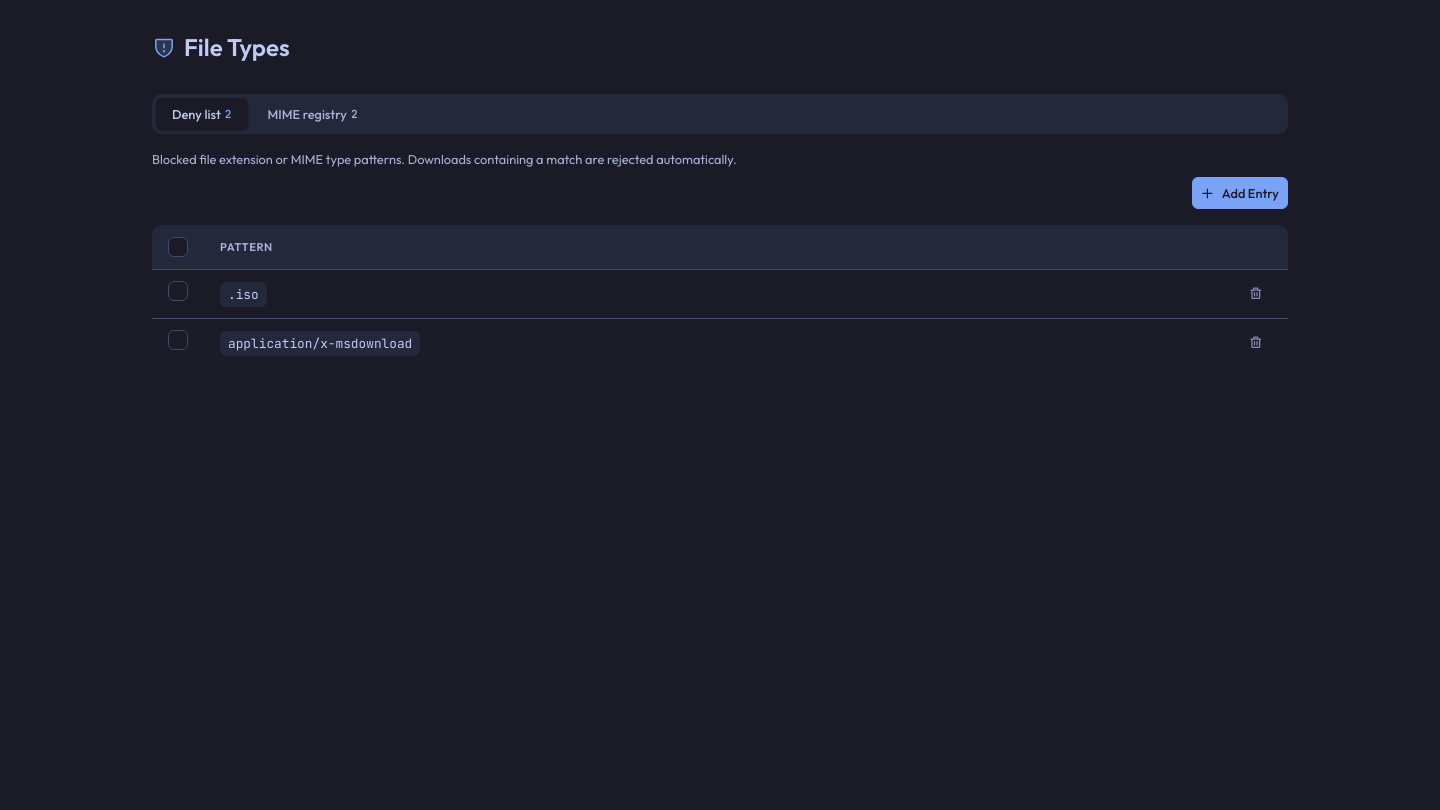
FileTypesPage deny list › surfaces a readable error on add failure (400)
Click the button "Add Entry" at [1240, 193], box 1192,177 -> 1288,209
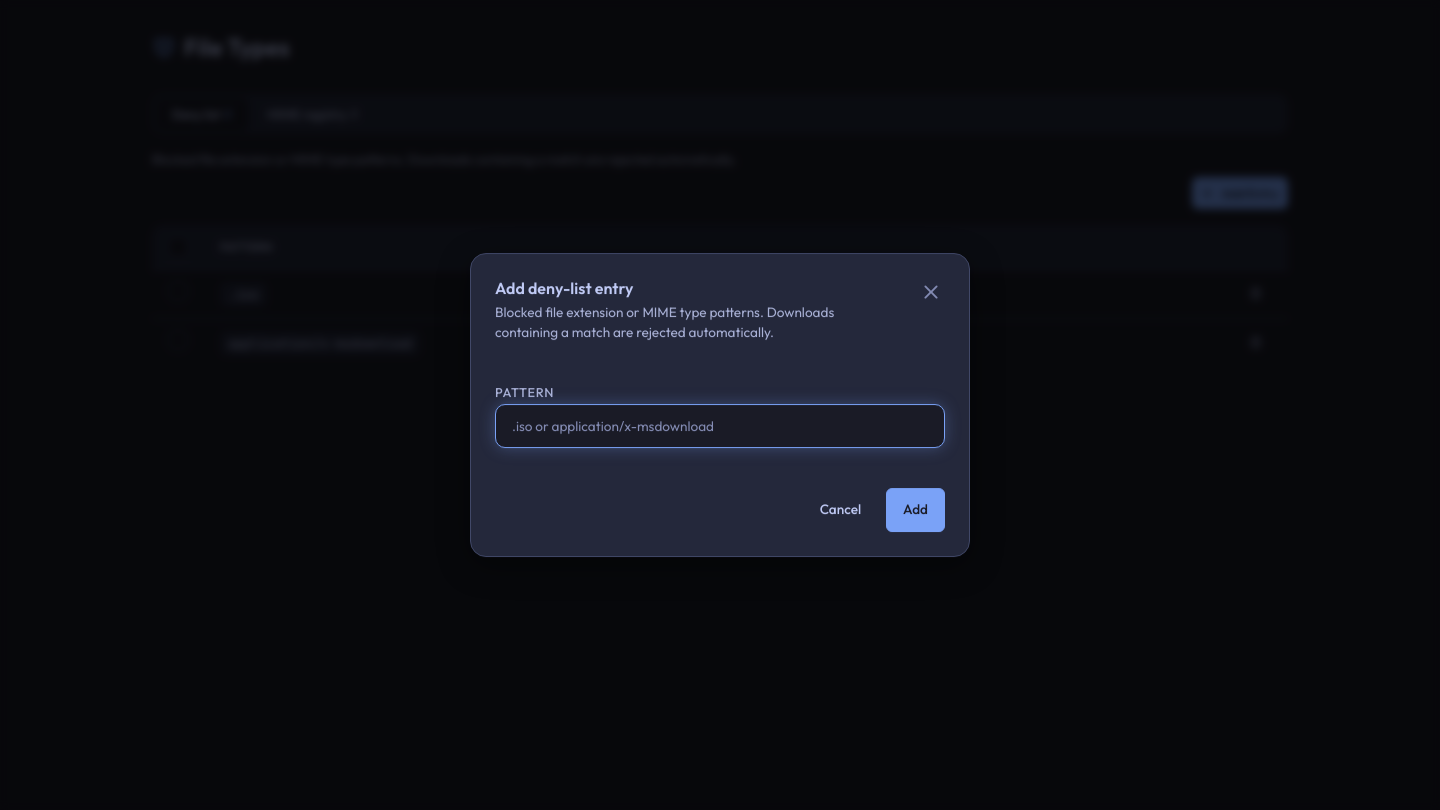
Type ".dmg" into the field labelled "Pattern" at [720, 426], box 496,408 -> 944,444
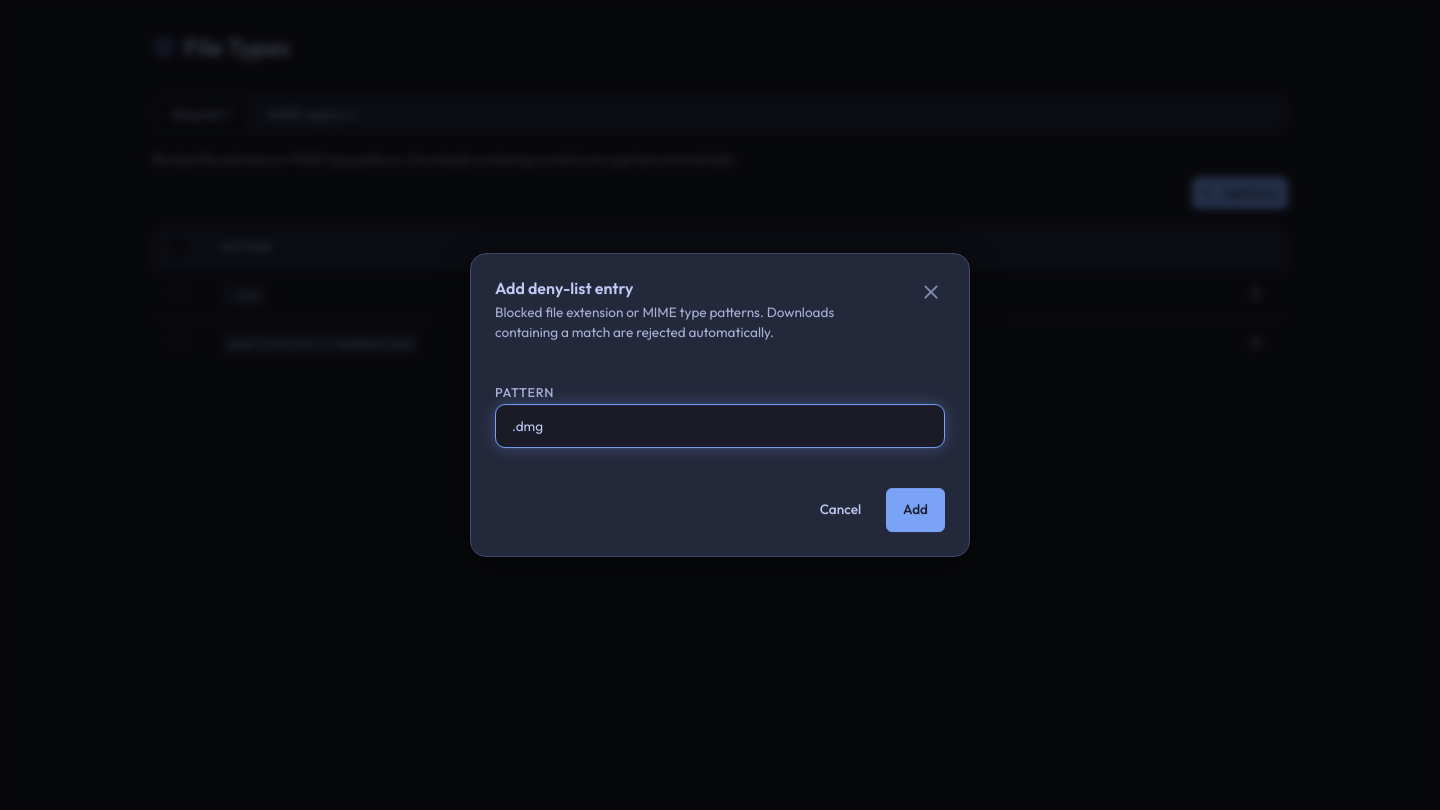
Click the button "Add" at [916, 510], box 886,488 -> 945,532
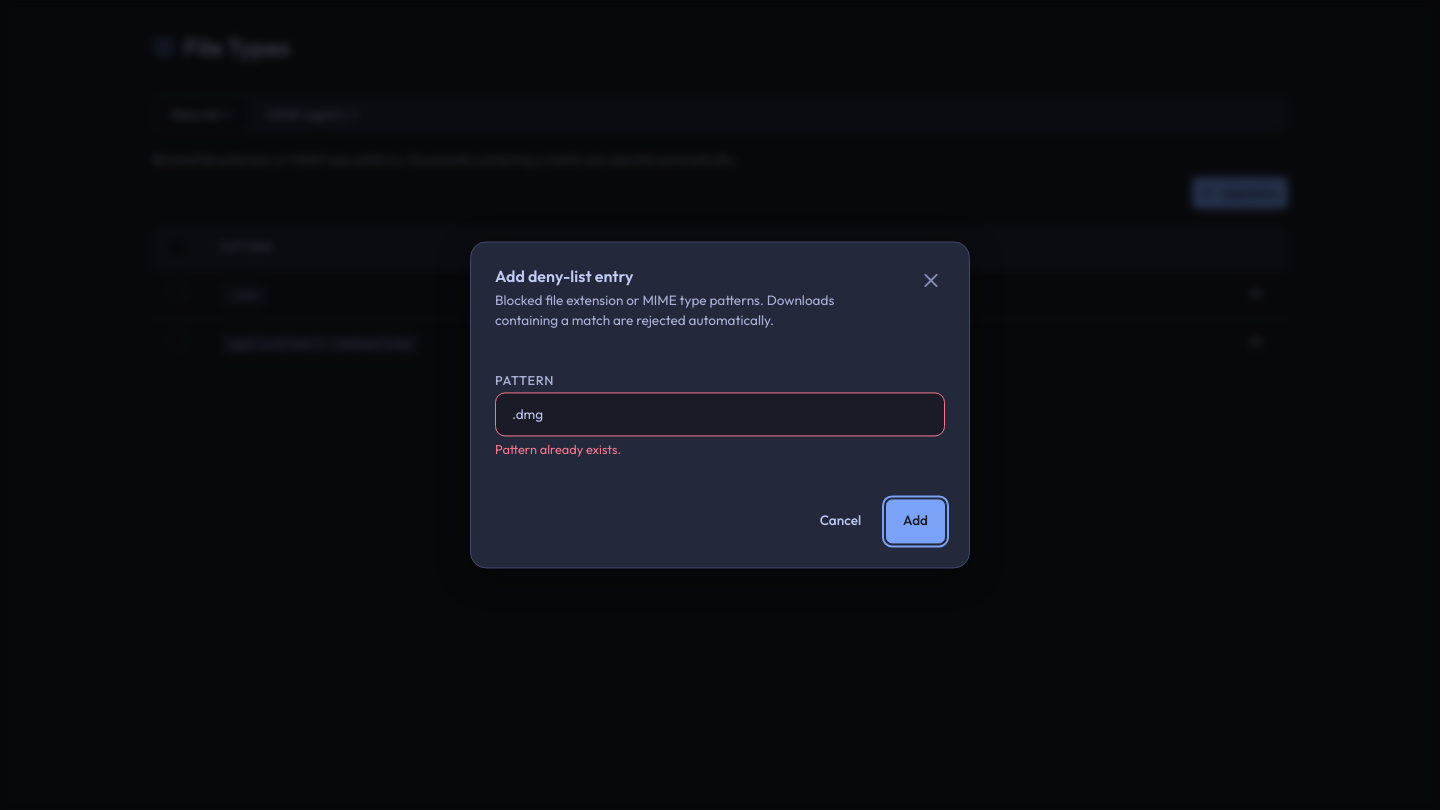
Check: the text "Pattern already exists." is shown, box 495,441 -> 621,457
